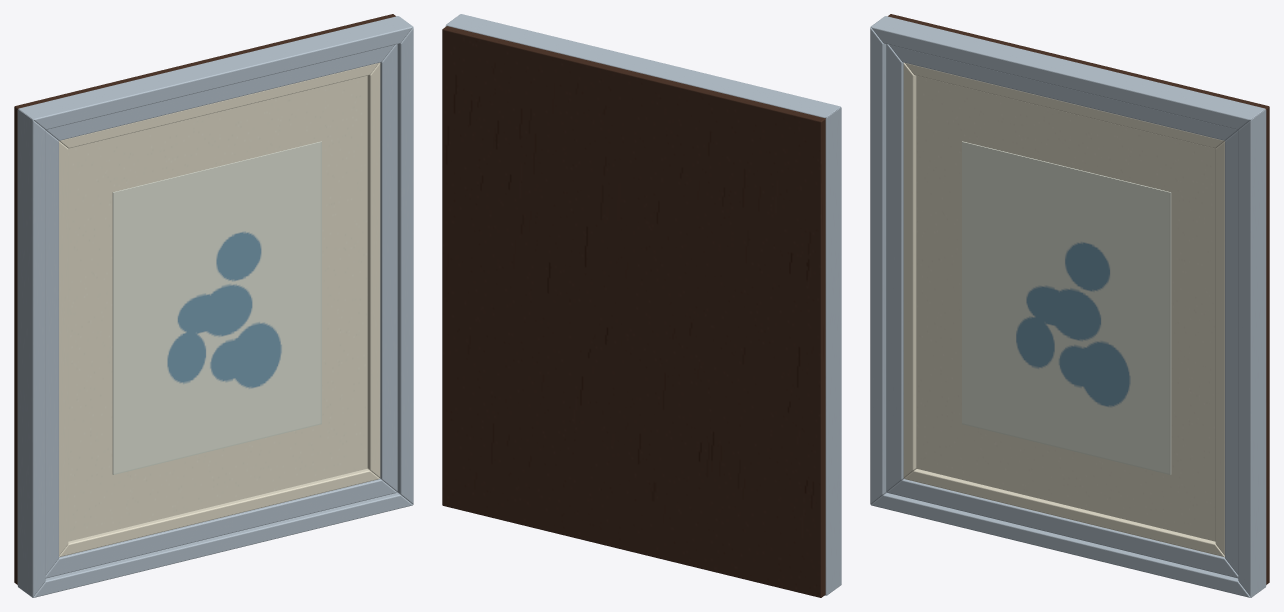
Rendered from Frame_23_FUR06_A3c.fbx.
3 views of the same model, side by side, from view 1: azimuth 30°, elevation 25°; view 2: azimuth 150°, elevation 25°; view 3: azimuth 330°, elevation 25° (orthographic).
Parts seen in each view (by area): view 1: Frame_23; view 2: Frame_23; view 3: Frame_23.
Boxes of the visible parts, <box> form: Frame_23: <box>14,14,413,597</box>; Frame_23: <box>442,14,841,597</box>; Frame_23: <box>870,14,1269,597</box>.
Bounding box in the file's own units: 0.4 × 0.48 × 0.036.
